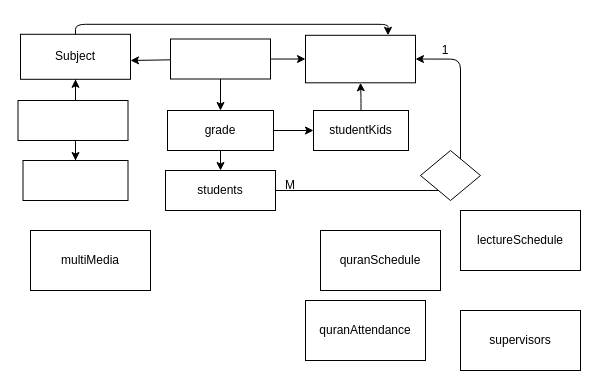
The diagram is 598 pixels wide and 389 high, and some of its shapes have lost their labels. The centre of each missing label's shape, as x and y in pixels:
Class: pixel 360 58
Exam: pixel 220 58
has: pixel 450 175
subjectTeacher: pixel 72 120
teacher: pixel 75 180
